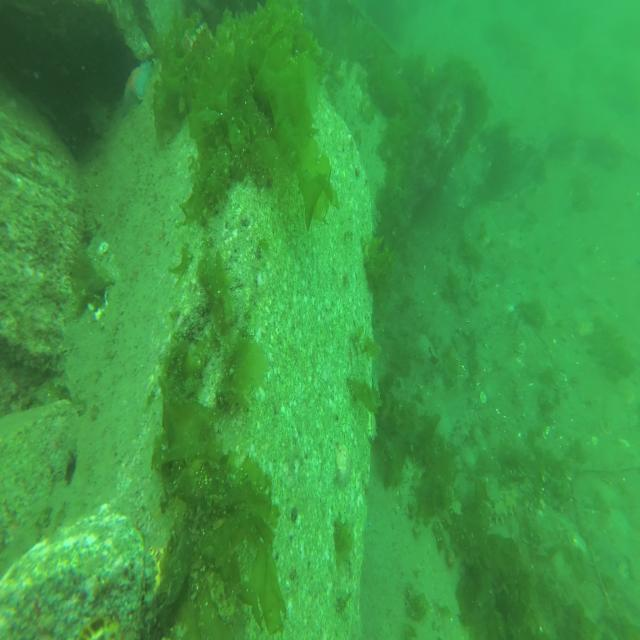holothurian: (482, 484, 520, 527), (450, 405, 480, 453)
starfish: (119, 58, 156, 120)
